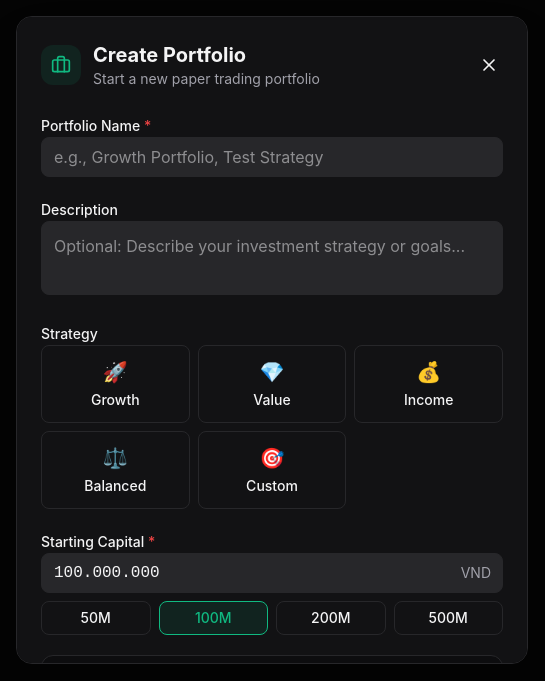
Test: CreatePortfolioDialog › shows validation error when name is too short
In the field with placeholder "e.g., Growth Portfolio, Test Strategy": (272, 157) 41,137 -> 503,177, type "A"
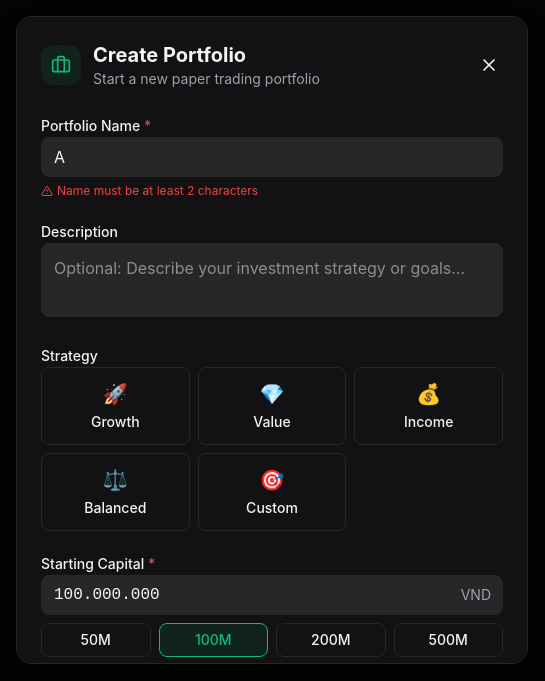
Expected: the text "Name must be at least 2 characters" is shown, 41,183 -> 258,198
